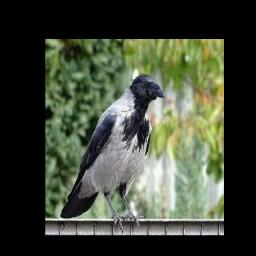Crow: (60, 74, 165, 233)
